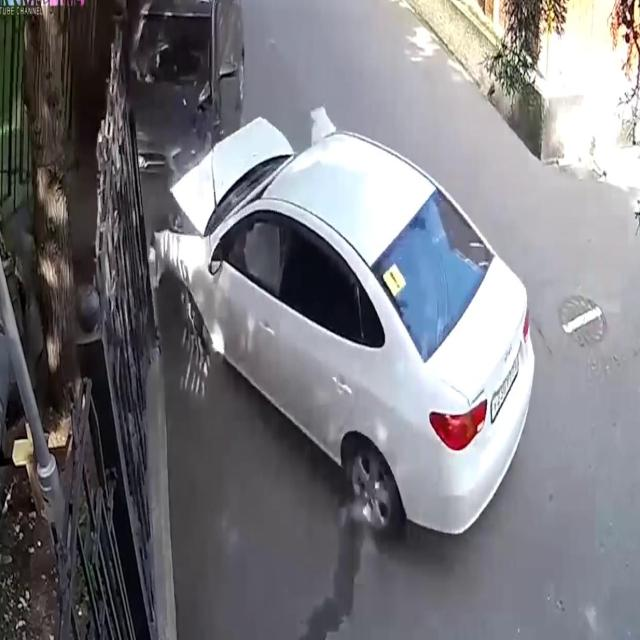accident: (120, 0, 547, 562)
